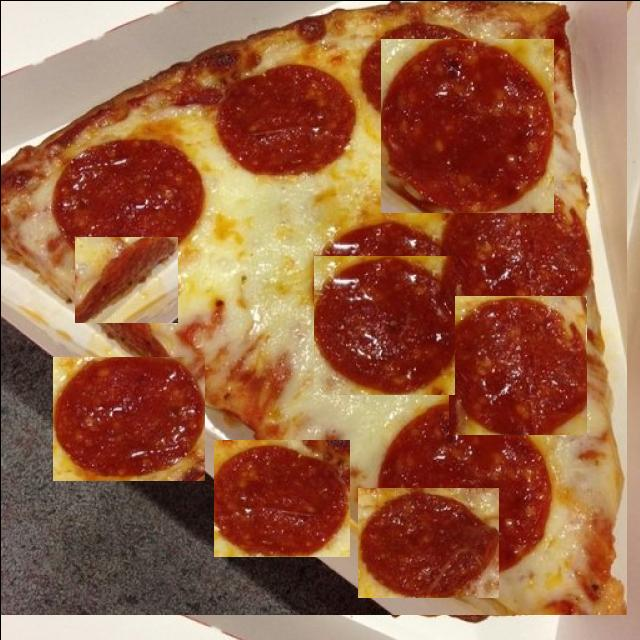pepperoni: (378, 38, 552, 212), (313, 255, 454, 394), (448, 295, 586, 434), (52, 356, 204, 480), (213, 439, 349, 556), (357, 487, 498, 597), (74, 236, 177, 322)
pizza: (0, 0, 626, 614)
